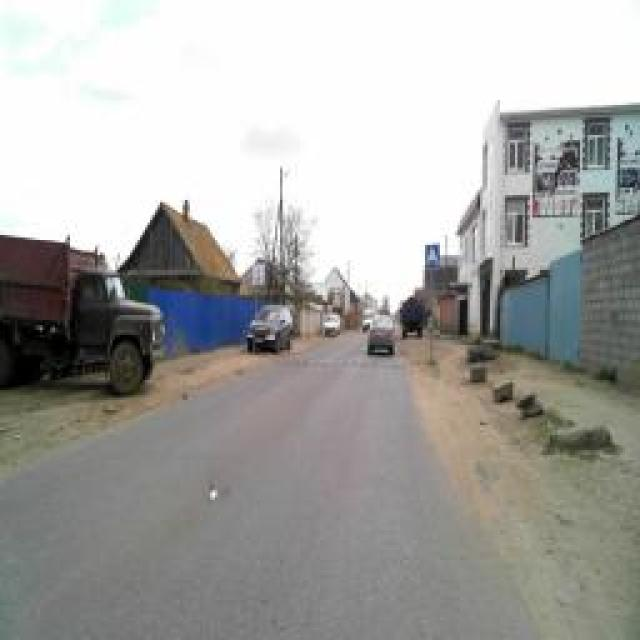sign: (425, 245, 440, 267)
